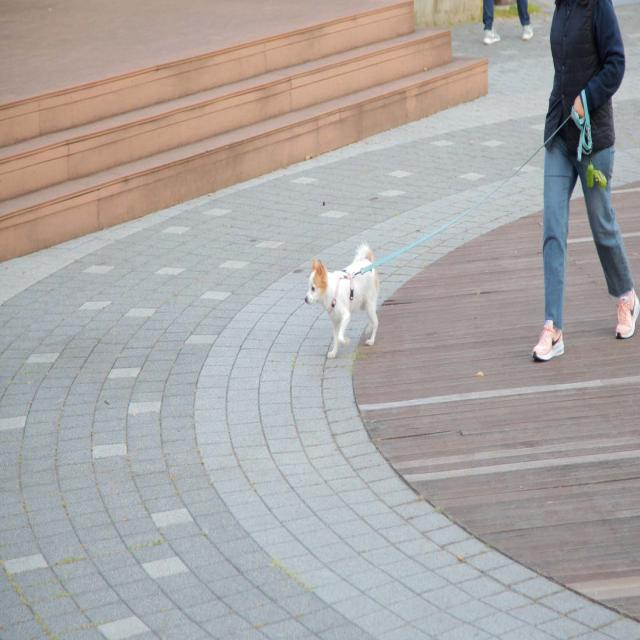Leashed_Dog: (305, 87, 593, 362)
